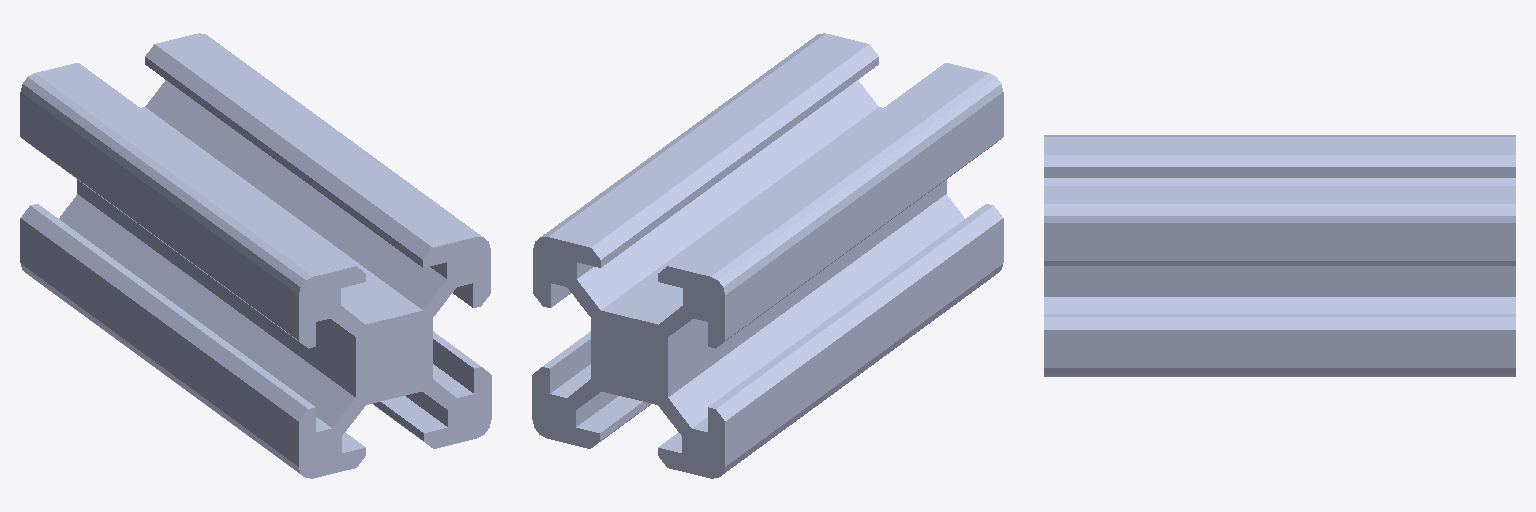
robot.urdf — Part2.SLDPRT:
<?xml version="1.0" encoding="utf-8"?>
<!-- This URDF was automatically created by SolidWorks to URDF Exporter! Originally created by [author] ([email redacted]) 
     Commit Version: 1.5.1-0-g916b5db  Build Version: 1.5.7152.31018
     For more information, please see http://wiki.ros.org/sw_urdf_exporter -->
<robot
  name="Part2.SLDPRT">
  <link
    name="alu_prof_large_gray">
    <inertial>
      <origin
        xyz="-0.01842 -0.05 -0.018504"
        rpy="0 0 0" />
      <mass
        value="0.186" />
      <inertia
        ixx="7.5037E-05"
        ixy="2.73105966834574E-21"
        ixz="2.189E-08"
        iyy="2.2806E-05"
        iyz="2.75135428616951E-21"
        izz="7.4983E-05" />
    </inertial>
    <visual>
      <origin
        xyz="0 0 0"
        rpy="1.5707963267949 0 0" />
      <geometry>
        <mesh
          filename="package://suii_description/Field/objects/meshes/alu_prof_large_gray.STL" />
      </geometry>
      <material
        name="">
        <color
          rgba="0.79216 0.81961 0.93333 1" />
        <texture
          filename="package://suii_description/Field/objects/textures/" />
      </material>
    </visual>
    <collision>
      <origin
        xyz="0 0 0"
        rpy="1.5707963267949 0 0" />
      <geometry>
        <mesh
          filename="package://suii_description/Field/objects/meshes/alu_prof_large_gray.STL" />
      </geometry>
    </collision>
  </link>
</robot>

--- What the picture shows (computed from the rendered views, not written in the file) ---
3 views of the same robot in one strip: view 1: azimuth 30°, elevation 25°; view 2: azimuth 150°, elevation 25°; view 3: azimuth 270°, elevation 25° (orthographic).
Model Part2.SLDPRT with 1 links and 0 joints (none), rooted at alu_prof_large_gray, posed all joints at 0.
Links seen in each view (by area): view 1: alu_prof_large_gray; view 2: alu_prof_large_gray; view 3: alu_prof_large_gray.
Boxes of the visible links, x1,y1,x2,y2 form: alu_prof_large_gray: [20, 33, 491, 478]; alu_prof_large_gray: [532, 33, 1003, 478]; alu_prof_large_gray: [1044, 135, 1515, 376].
Size in the robot's own frame: 0.04 by 0.1 by 0.04 metres.
1 mesh visuals loaded from 1 distinct referenced files (1 binary STL).
